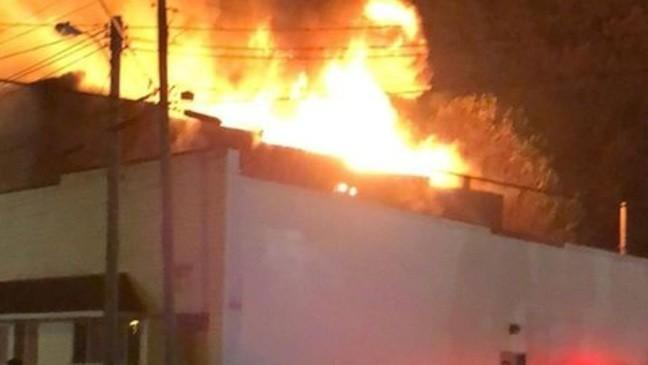fire: (195, 41, 470, 186)
